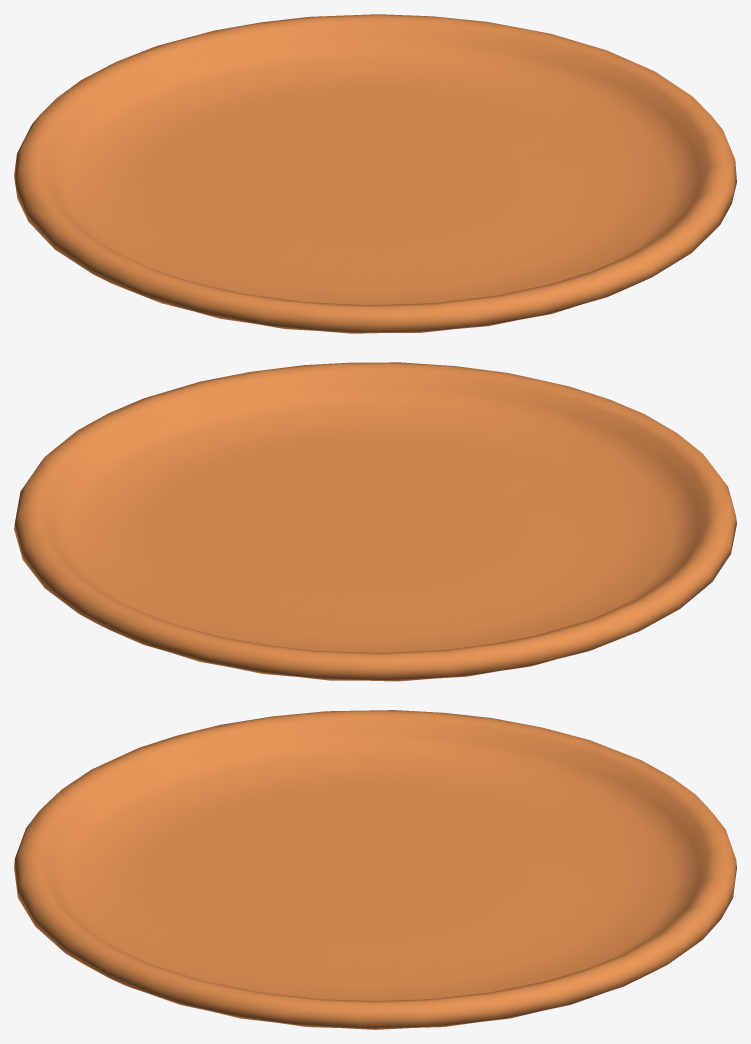
The model's file is pizza_upieczona.gltf.
3 views of the same model, one above another, from view 1: azimuth 30°, elevation 25°; view 2: azimuth 150°, elevation 25°; view 3: azimuth 270°, elevation 25° (orthographic).
Visible parts, largest first — view 1: Cylinder; view 2: Cylinder; view 3: Cylinder.
Part boxes in pixels (bbox=[...]): Cylinder: bbox=[14, 14, 736, 333]; Cylinder: bbox=[14, 362, 736, 681]; Cylinder: bbox=[14, 710, 736, 1029].
Bounding box in the file's own units: 1.44 × 0.0648 × 1.44.
1 material, 1 textured.
